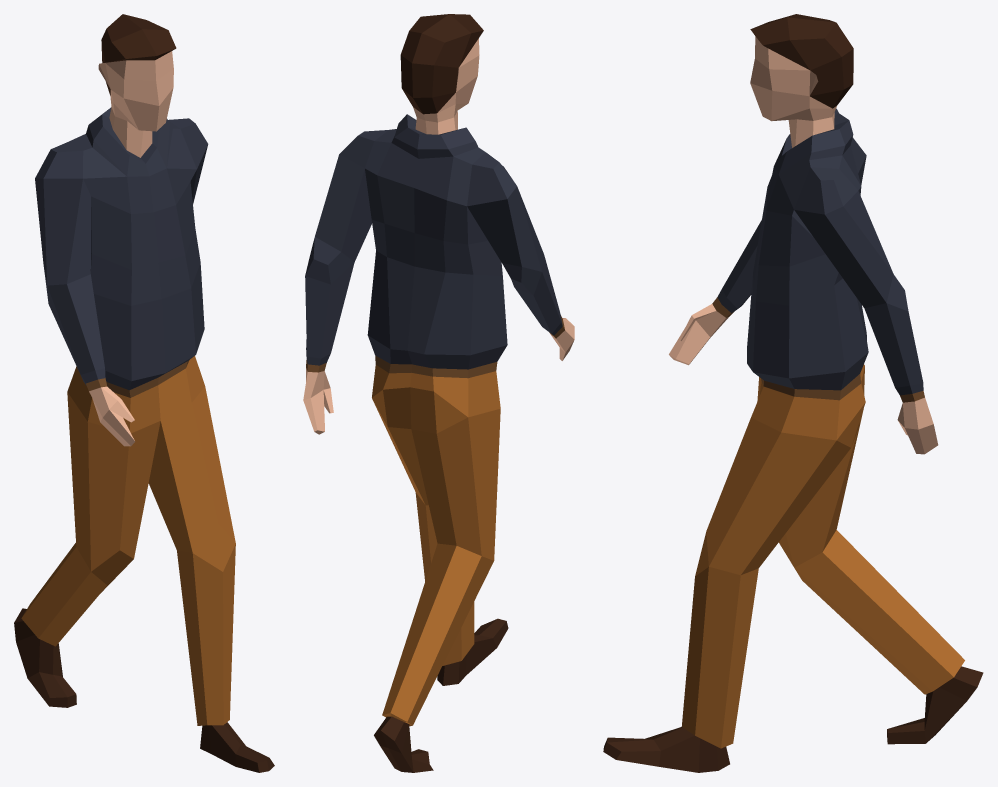
File: AutumnManA.005.glb
3 renders of one model, left to right at view 1: azimuth 30°, elevation 25°; view 2: azimuth 150°, elevation 25°; view 3: azimuth 270°, elevation 25°, orthographic. The views are drawn at different scales.
Parts seen in each view (by area): view 1: AutumnManA.005; view 2: AutumnManA.005; view 3: AutumnManA.005.
Part boxes in pixels (x1,y1,x2,y2): AutumnManA.005: (14, 14, 274, 772); AutumnManA.005: (303, 14, 574, 772); AutumnManA.005: (603, 14, 983, 772).
Bounding box in the file's own units: 0.4704 × 1.71 × 0.8001.
1 material, 1 textured.
